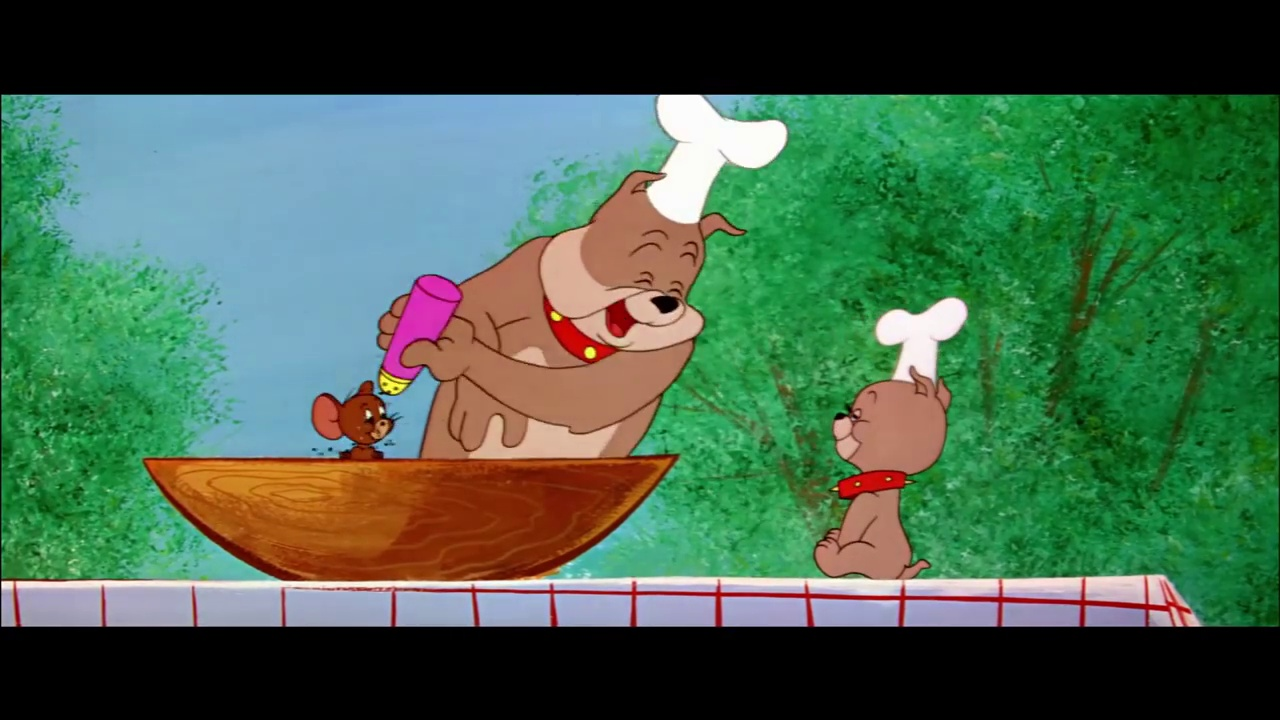spike: (535, 165, 749, 365)
